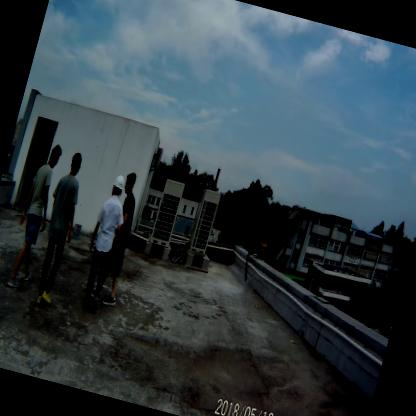capacete: (108, 172, 127, 200)
sem_capacete: (45, 142, 64, 172), (66, 148, 85, 176), (122, 170, 138, 197)
sem_colete_refletivo: (42, 171, 82, 238), (89, 192, 127, 256), (22, 159, 58, 220), (111, 190, 141, 252)
